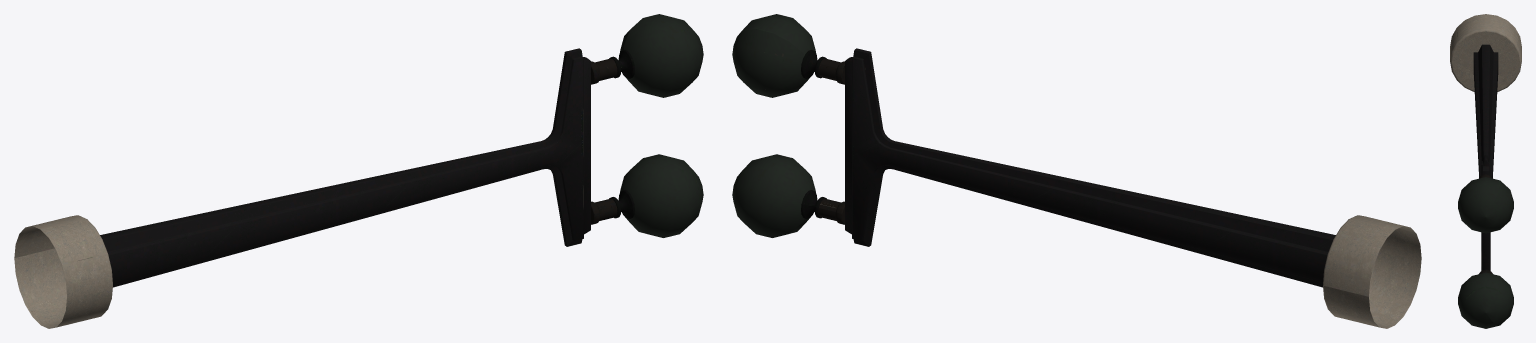
The model's file is cP_StreetLight_Tall01.dae.
The picture shows the model from 3 angles, left to right: view 1: azimuth 30°, elevation 25°; view 2: azimuth 150°, elevation 25°; view 3: azimuth 270°, elevation 25°; orthographic projection. The views are drawn at different scales.
Visible parts, largest first — view 1: cP_StreetLight_Tall01.001; view 2: cP_StreetLight_Tall01.001; view 3: cP_StreetLight_Tall01.001.
Boxes of the visible parts, x1,y1,x2,y2 form: cP_StreetLight_Tall01.001: [14, 14, 703, 328]; cP_StreetLight_Tall01.001: [732, 14, 1421, 328]; cP_StreetLight_Tall01.001: [1450, 14, 1521, 328].
Size of the model in its own units: 7.38 by 1.03 by 2.31.
